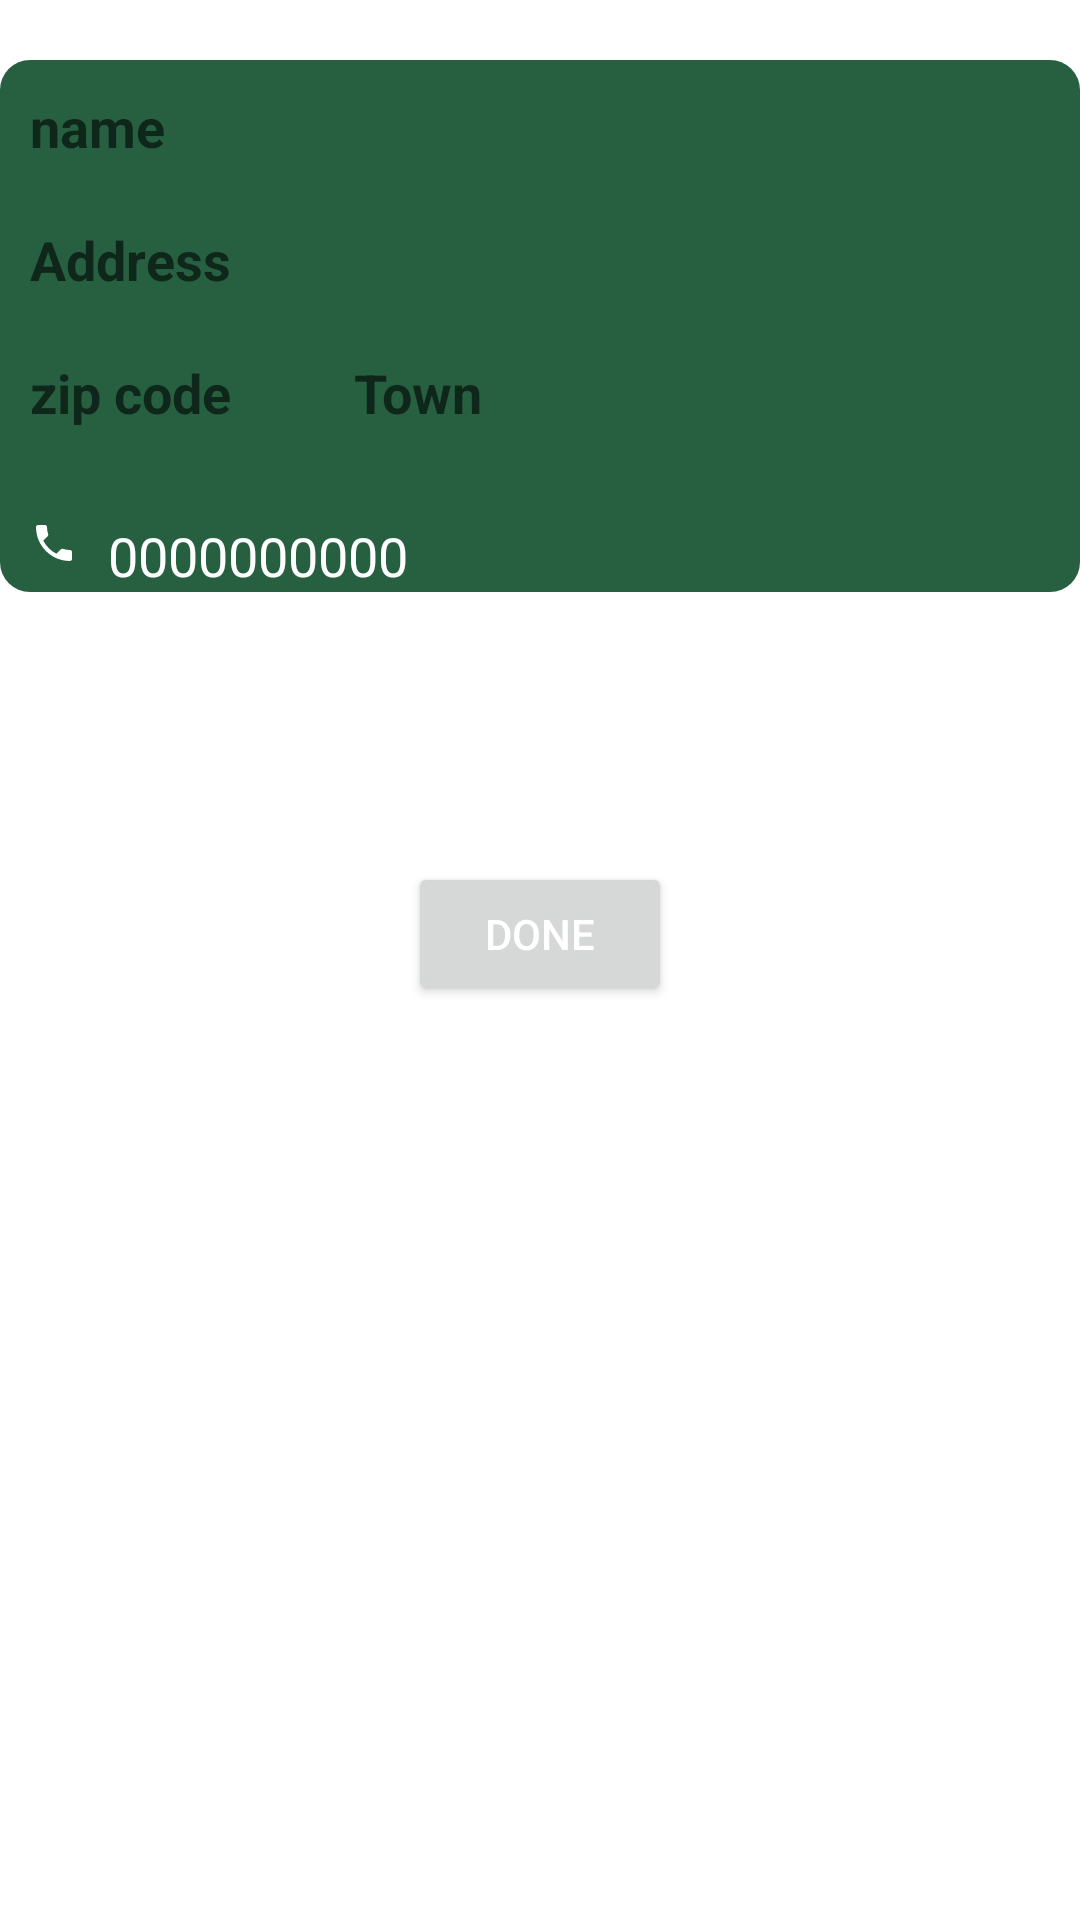

Icons on this 1080 × 1920 Android screen, each with the point to tap as [x,y]:
phone: [54,543]
